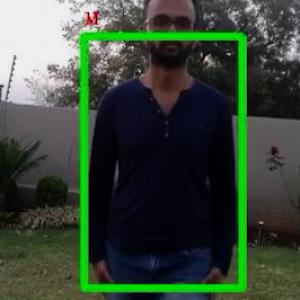follow: (79, 0, 238, 299)
